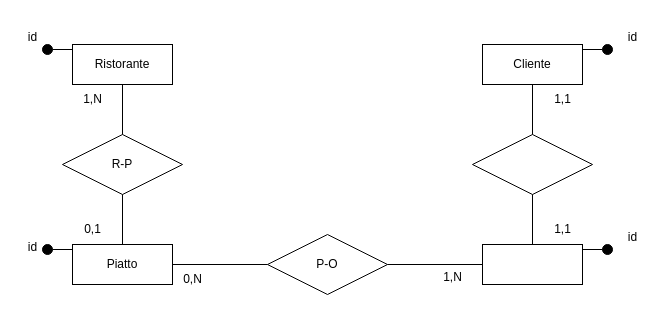
Some shapes in this 664 by 312 pixel diagram are drawn without their labels. The centre of each missing label's shape, as x and y in pixels:
"C-O" goes at (532,164).
"Ordine" goes at (532,264).
